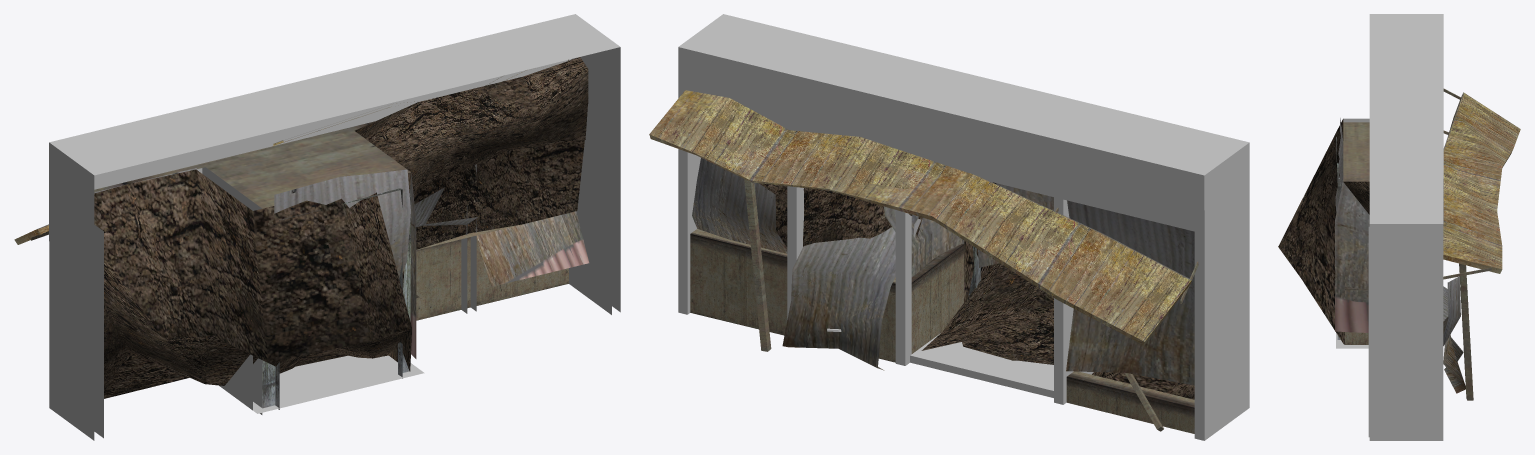
File: Store_front_5_A.fbx
3 renders of one model, left to right at view 1: azimuth 30°, elevation 25°; view 2: azimuth 150°, elevation 25°; view 3: azimuth 270°, elevation 25°, orthographic. The views are drawn at different scales.
Visible parts, largest first — view 1: Store_front_5_A; view 2: Store_front_5_A; view 3: Store_front_5_A.
Boxes of the visible parts, <box> form: Store_front_5_A: <box>14,14,620,440</box>; Store_front_5_A: <box>649,14,1249,440</box>; Store_front_5_A: <box>1278,14,1520,440</box>.
Bounding box in the file's own units: 700 × 337 × 342.
